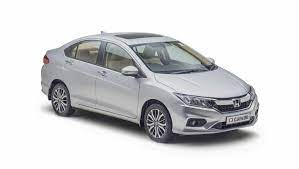Honda: (40, 30, 260, 143)
